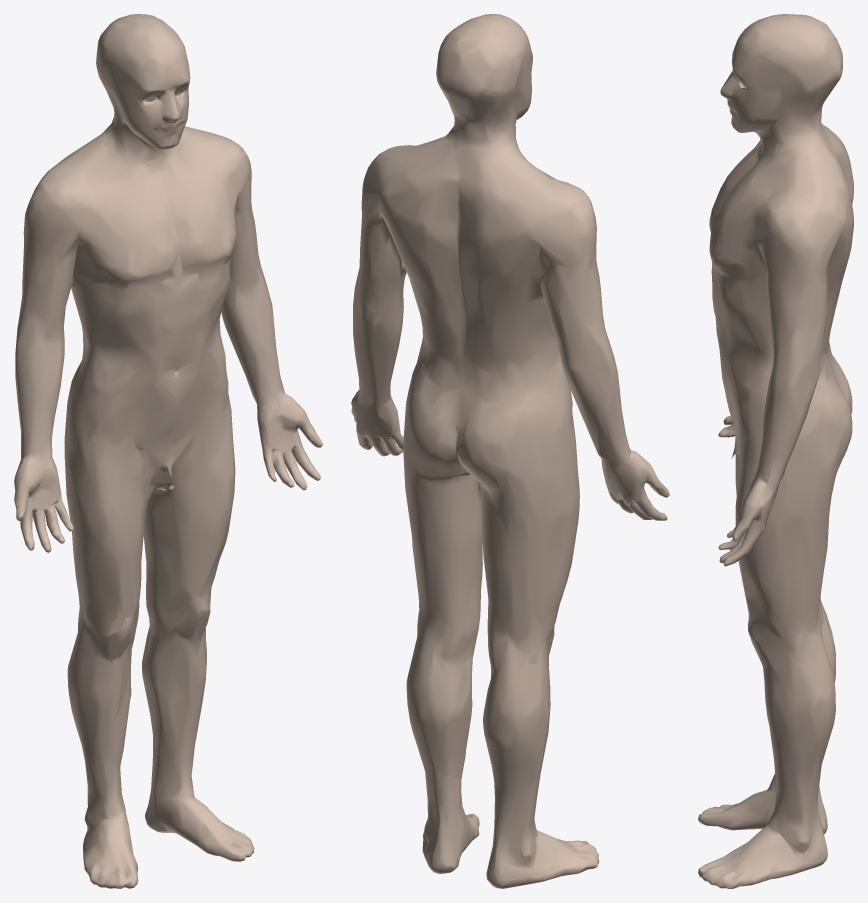
The model's file is piel.l.glb.
The picture shows the model from 3 angles, left to right: view 1: azimuth 30°, elevation 25°; view 2: azimuth 150°, elevation 25°; view 3: azimuth 270°, elevation 25°; orthographic projection. The views are drawn at different scales.
Parts seen in each view (by area): view 1: capa; view 2: capa; view 3: capa.
Part boxes in pixels (x1,y1,x2,y2): capa: (14, 14, 322, 888); capa: (351, 14, 669, 888); capa: (698, 14, 853, 888).
Size of the model in its own units: 0.6667 by 1.72 by 0.2915.
